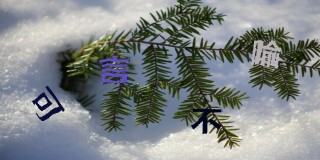不: (191, 107, 222, 134)
可: (32, 85, 65, 122)
喻: (251, 39, 283, 69)
言: (99, 55, 127, 83)
